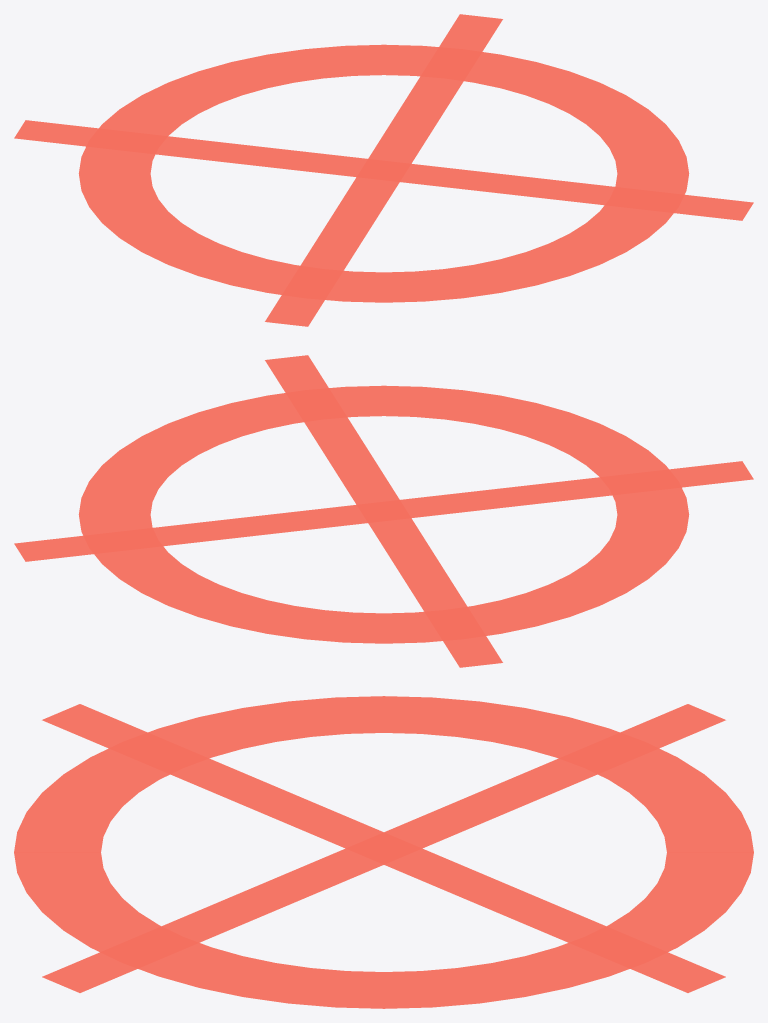
File: marker.glb
3 renders of one model, top to bottom at view 1: azimuth 30°, elevation 25°; view 2: azimuth 150°, elevation 25°; view 3: azimuth 270°, elevation 25°, orthographic. The views are drawn at different scales.
Visible parts, largest first — view 1: marker; view 2: marker; view 3: marker.
Boxes of the visible parts, bbox=[...] form: marker: bbox=[14, 14, 753, 326]; marker: bbox=[14, 355, 753, 667]; marker: bbox=[14, 696, 753, 1008].
Bounding box in the file's own units: 0.34 × 0.002 × 0.34.
